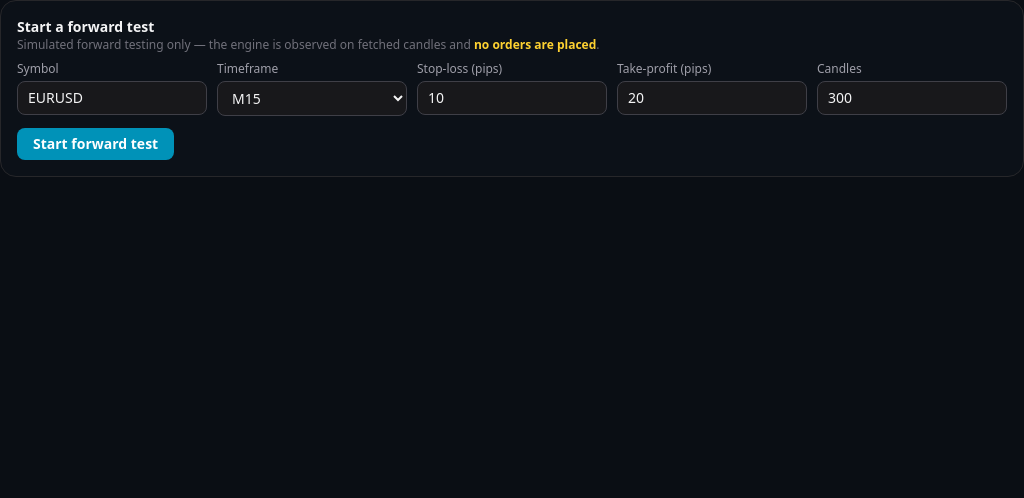
ForwardTestConsole › starts a simulated forward test and shows its observation
What coordinates should you click on to do the following:
click the button with test id "ft-start"
I would click on:
 (96, 144)
Its box is [17,128,174,160].
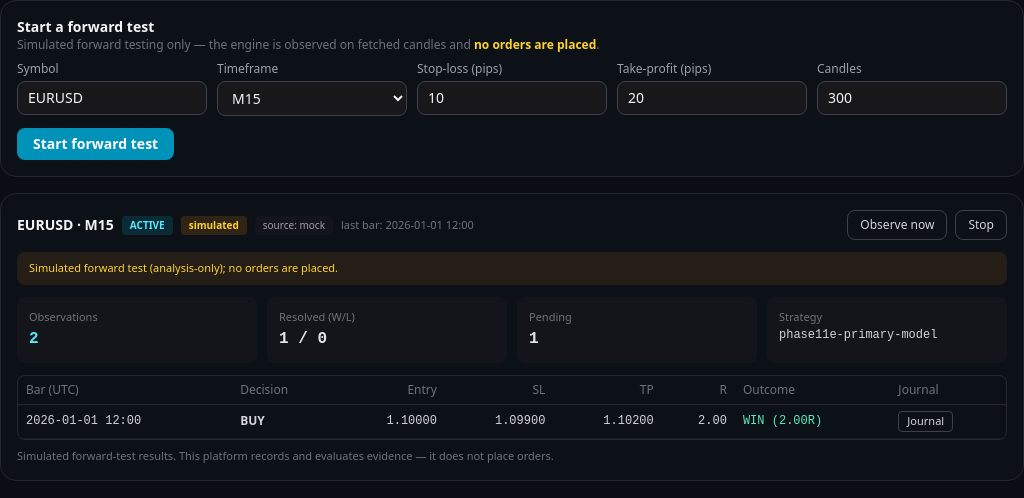
expect the element with test id "ft-result" is shown: met, box [0,193,1023,481]
expect the text with test id "ft-status" reads "active": met, box [130,218,165,232]
expect the text with test id "ft-simulated" reads "simulated": met, box [189,218,239,232]
